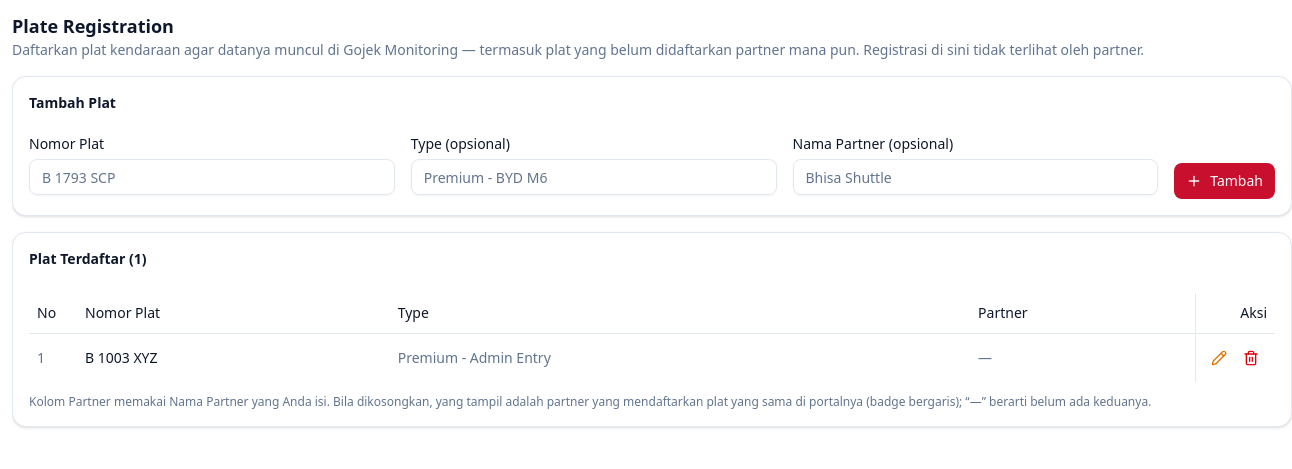
Test: Plate Registration page (super_admin) › refuses to submit an empty plate number
The image size is (1292, 469).
Expected: the heading "Plate Registration" is shown, [12,14,174,38]
Click the button "Tambah". click: click(1225, 181)
box: [1174,163,1275,199]
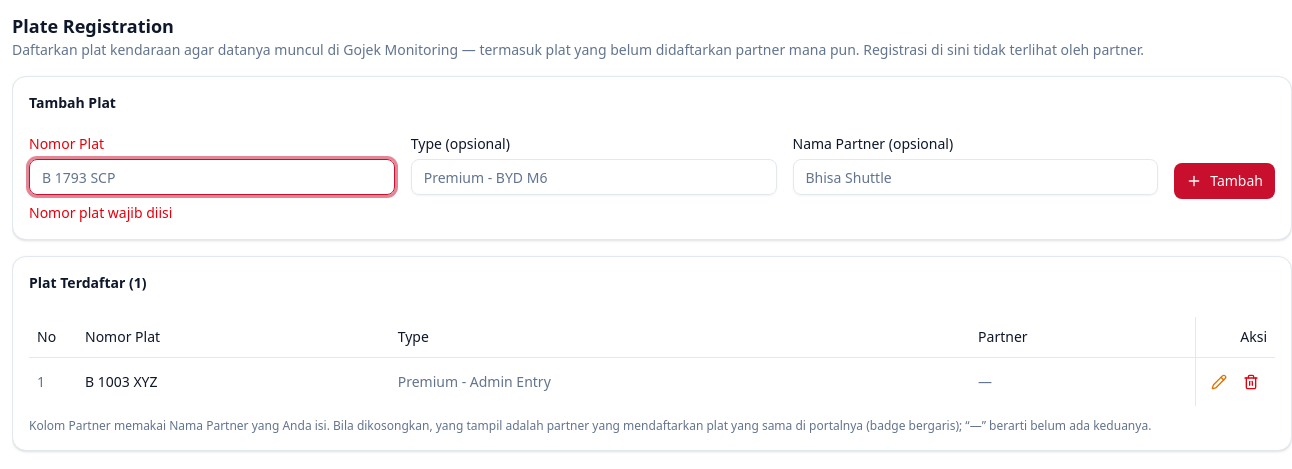
Expected: the text "Nomor plat wajib diisi" is shown, [29,203,172,222]
